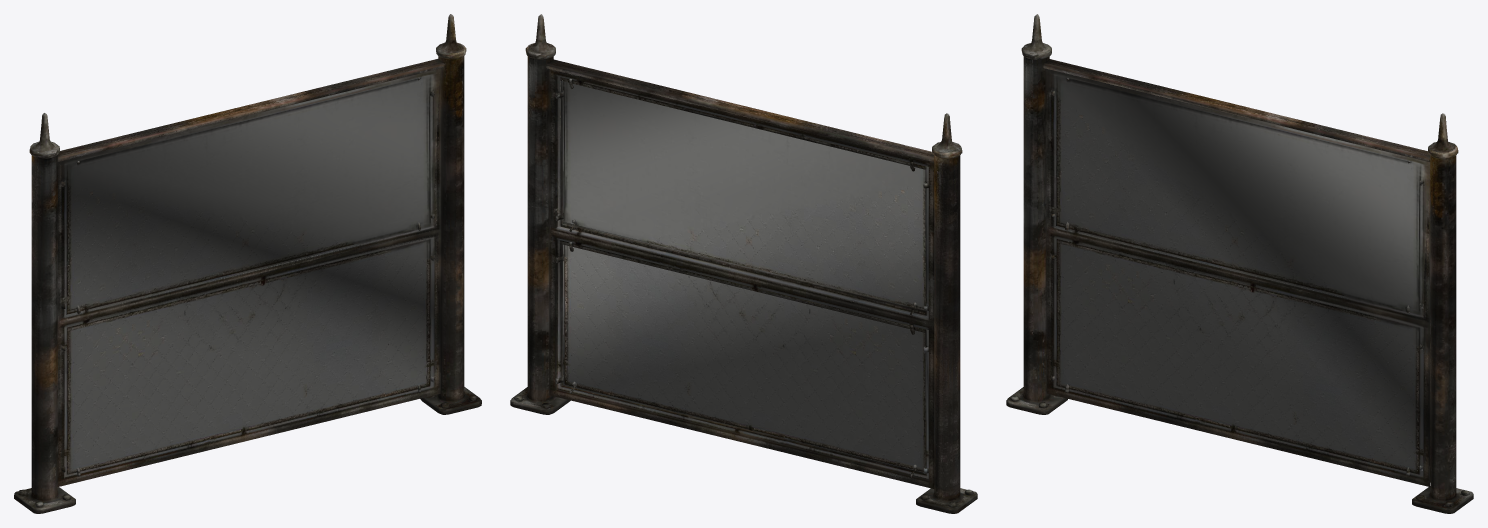
File: selected.glb
3 renders of one model, left to right at view 1: azimuth 30°, elevation 25°; view 2: azimuth 150°, elevation 25°; view 3: azimuth 330°, elevation 25°, orthographic.
Parts seen in each view (by area): view 1: tripo_node_2058b512-6210-4b5c-8490-7b7c8ccb9459; view 2: tripo_node_2058b512-6210-4b5c-8490-7b7c8ccb9459; view 3: tripo_node_2058b512-6210-4b5c-8490-7b7c8ccb9459.
Boxes of the visible parts, left/top/right/bottom form: tripo_node_2058b512-6210-4b5c-8490-7b7c8ccb9459: left=14, top=14, right=481, bottom=513; tripo_node_2058b512-6210-4b5c-8490-7b7c8ccb9459: left=510, top=14, right=977, bottom=513; tripo_node_2058b512-6210-4b5c-8490-7b7c8ccb9459: left=1006, top=14, right=1473, bottom=513.
Bounding box in the file's own units: 0.998 × 0.8262 × 0.0957.
1 material, 1 textured.
